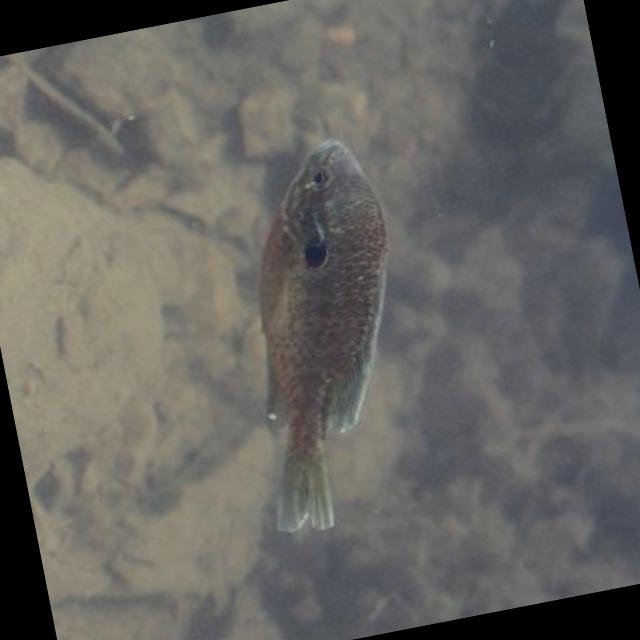Gunes Levregi: (184, 120, 444, 545)
